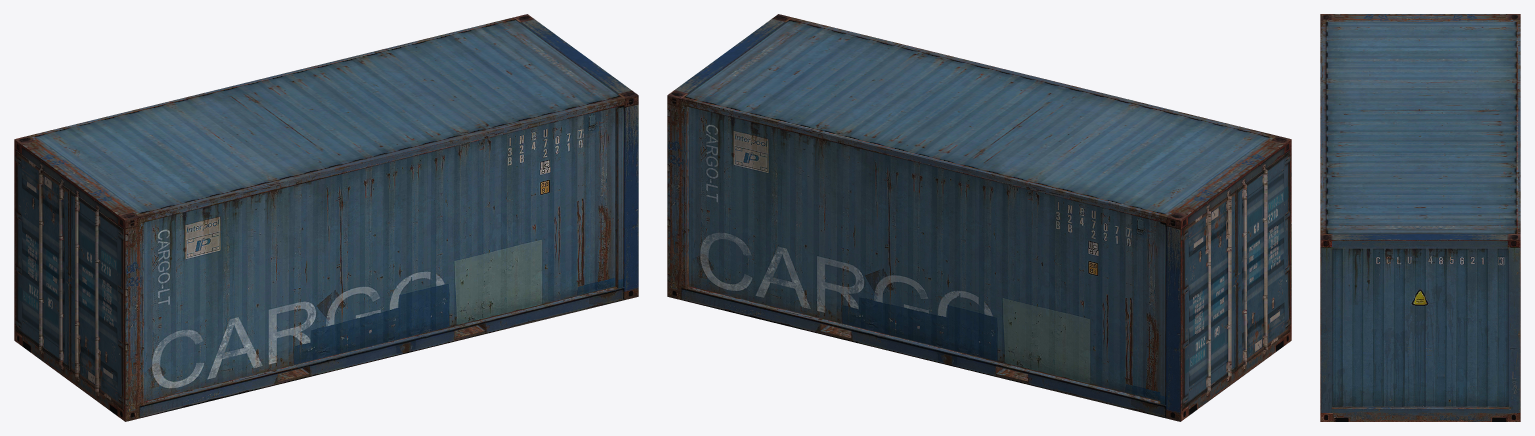
The model's file is Cargo_Container_.fbx.
3 views of the same model, side by side, from view 1: azimuth 30°, elevation 25°; view 2: azimuth 150°, elevation 25°; view 3: azimuth 270°, elevation 25° (orthographic). The views are drawn at different scales.
Parts seen in each view (by area): view 1: Cargo_container_v1_LD2open:Cargo_container_v1_LD2open_0, Cargo_container_v1_LD2doorR_0, Cargo_container_v1_LD2doorR:Cargo_container_v1_LD2doorR_0; view 2: Cargo_container_v1_LD2open:Cargo_container_v1_LD2open_0, Cargo_container_v1_LD2doorR_0, Cargo_container_v1_LD2doorR:Cargo_container_v1_LD2doorR_0; view 3: Cargo_container_v1_LD2open:Cargo_container_v1_LD2open_0.
Part boxes in pixels (bbox=[...]): Cargo_container_v1_LD2open:Cargo_container_v1_LD2open_0: bbox=[14, 14, 638, 421]; Cargo_container_v1_LD2doorR_0: bbox=[16, 151, 69, 369]; Cargo_container_v1_LD2doorR:Cargo_container_v1_LD2doorR_0: bbox=[70, 190, 123, 409]; Cargo_container_v1_LD2open:Cargo_container_v1_LD2open_0: bbox=[667, 14, 1291, 421]; Cargo_container_v1_LD2doorR_0: bbox=[1182, 190, 1236, 408]; Cargo_container_v1_LD2doorR:Cargo_container_v1_LD2doorR_0: bbox=[1236, 151, 1290, 369]; Cargo_container_v1_LD2open:Cargo_container_v1_LD2open_0: bbox=[1320, 14, 1520, 421].
Bounding box in the file's own units: 64.36 × 24 × 24.
1 material, 1 textured.
